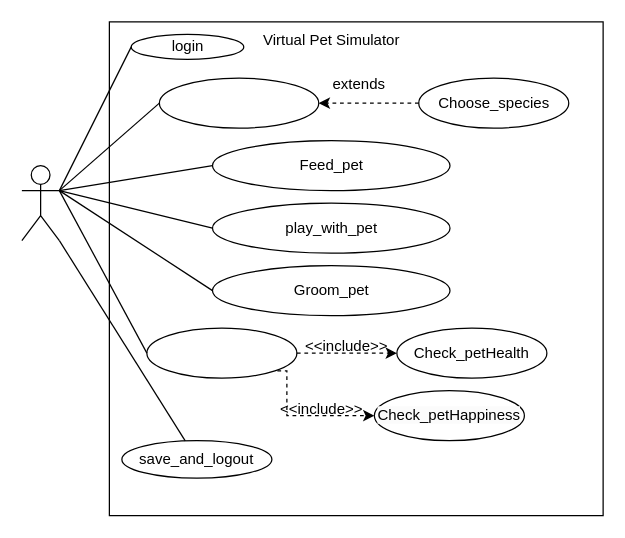
This 625x538 diagram has some shape labels left out. Each missing label, with the centre of its shape:
Adopt pet: the point at 238,102
Check_pet_status: the point at 221,352
User: the point at 40,202
